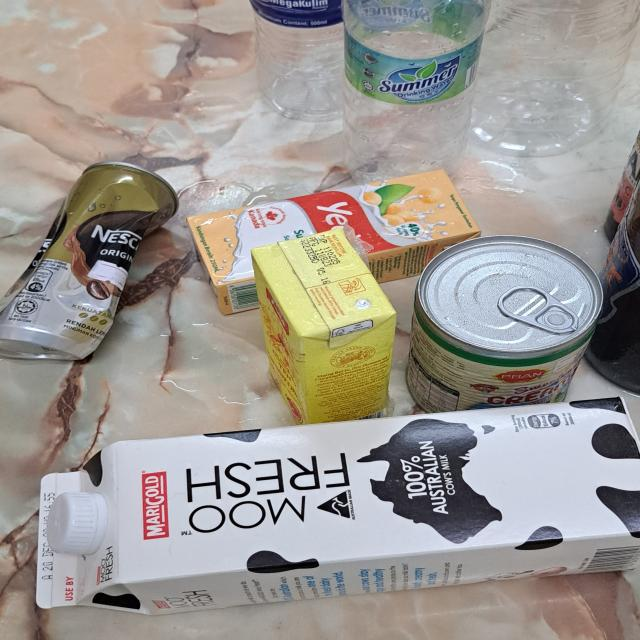can: (0, 156, 182, 364), (410, 233, 600, 418)
drink carton: (41, 402, 640, 618), (194, 165, 481, 314), (240, 229, 386, 422)
glass bottle: (585, 173, 640, 394)
plastic bottle: (471, 0, 640, 154), (346, 0, 485, 176), (250, 0, 360, 122)
pop tab: (49, 491, 111, 552), (506, 290, 574, 340)
